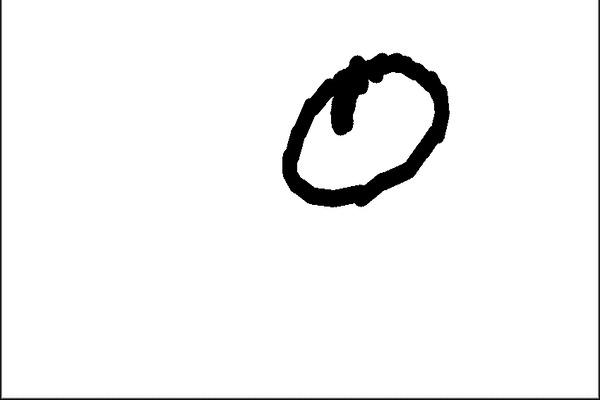O: (268, 34, 487, 215)
